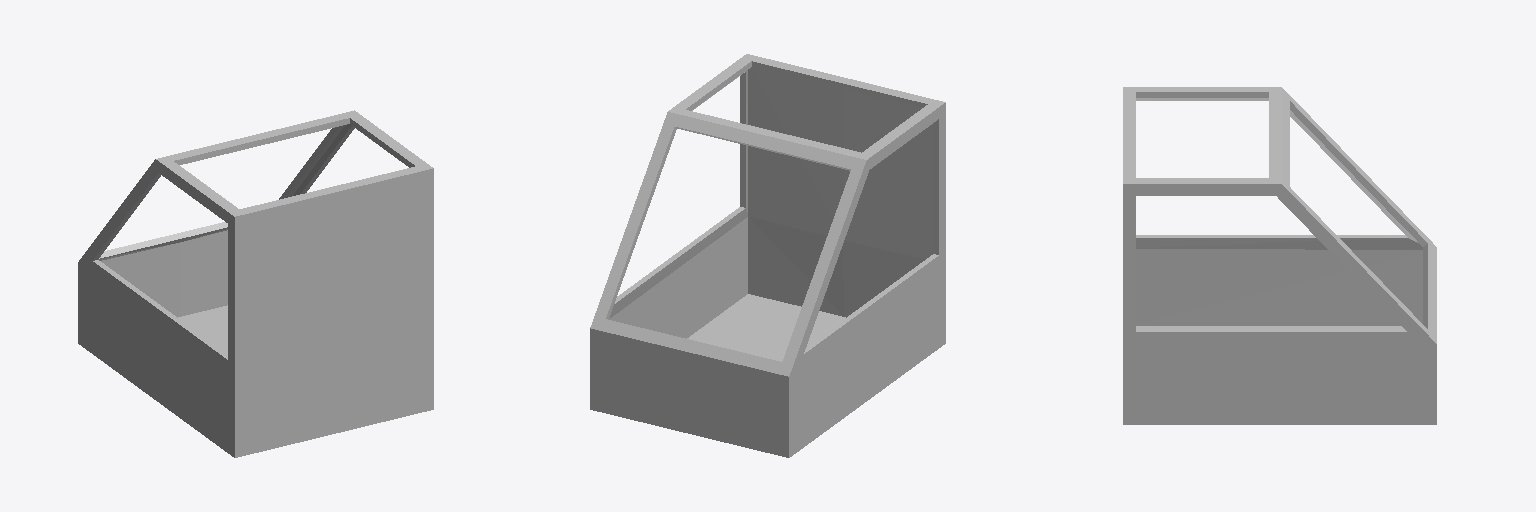
File: cockpit.obj
The picture shows the model from 3 angles: view 1: azimuth 30°, elevation 25°; view 2: azimuth 150°, elevation 25°; view 3: azimuth 270°, elevation 25°; orthographic projection.
Parts seen in each view (by area): view 1: cockpit; view 2: cockpit; view 3: cockpit.
Boxes of the visible parts, x1,y1,x2,y2 form: cockpit: [78, 110, 433, 457]; cockpit: [590, 54, 945, 457]; cockpit: [1123, 87, 1436, 424].
Bounding box in the file's own units: 1.47 × 1.7 × 2.